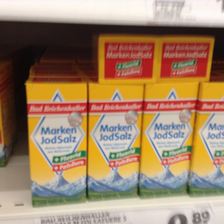spices: (24, 75, 88, 208), (139, 84, 197, 198), (89, 82, 143, 203), (192, 82, 224, 197)
